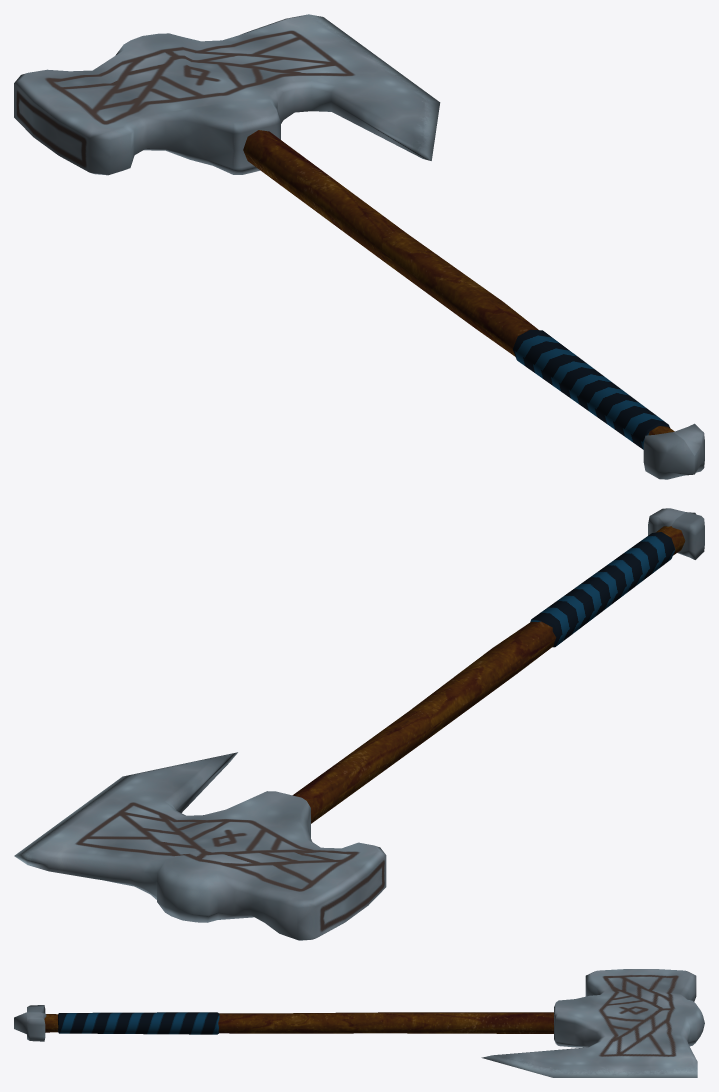
File: SilverBattleaxeMeshFBX.fbx
The picture shows the model from 3 angles, top to bottom: view 1: azimuth 30°, elevation 25°; view 2: azimuth 150°, elevation 25°; view 3: azimuth 270°, elevation 25°; orthographic projection. The views are drawn at different scales.
Visible parts, largest first — view 1: SilverBattleaxeMesh; view 2: SilverBattleaxeMesh; view 3: SilverBattleaxeMesh.
Boxes of the visible parts, box(x1,y1,x2,y2) form: SilverBattleaxeMesh: box(14, 14, 704, 479); SilverBattleaxeMesh: box(14, 508, 704, 940); SilverBattleaxeMesh: box(14, 969, 704, 1077).
Bounding box in the file's own units: 179 × 27.84 × 534.
